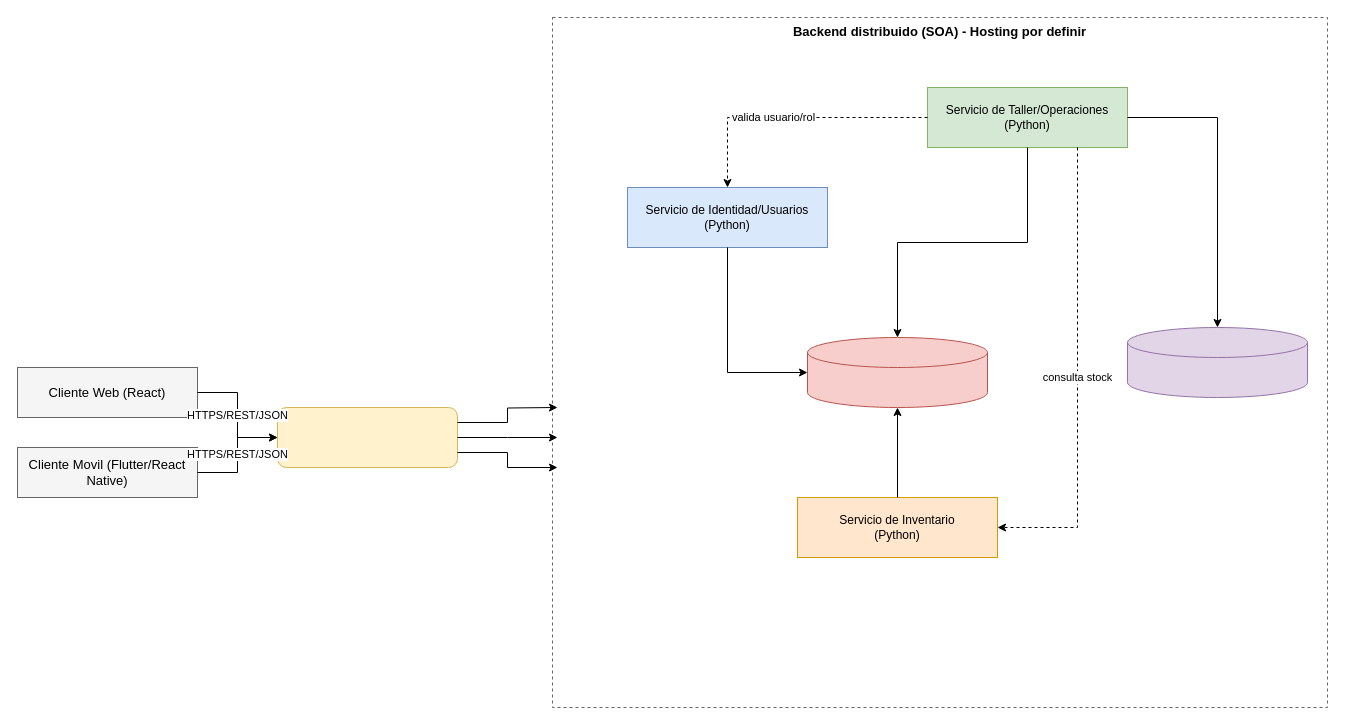
Some shapes in this 1345 by 725 pixel diagram are drawn without their labels. Each missing label, with the centre of its shape:
"API Gateway (valida JWT y enruta)" belongs at (x=367, y=437).
"Base de Datos PostgreSQL/MySQL" belongs at (x=897, y=372).
"Storage de Evidencia (fotos/video)" belongs at (x=1217, y=362).
